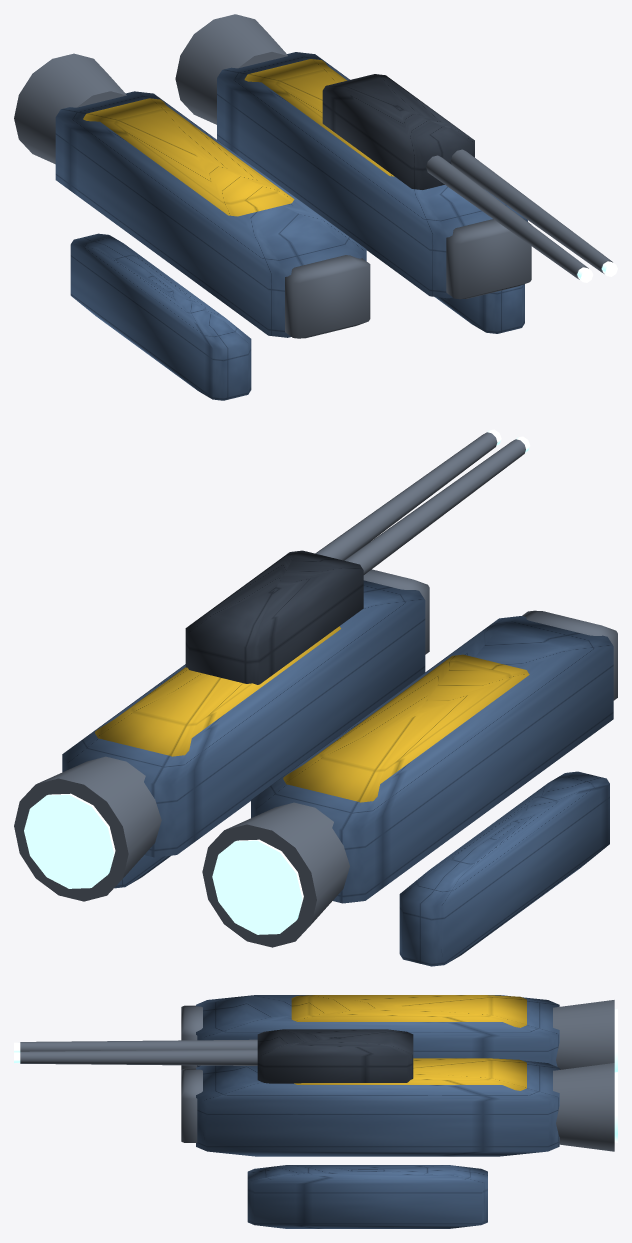
The model's file is vf1s_fast_pack.glb.
3 renders of one model, top to bottom at view 1: azimuth 30°, elevation 25°; view 2: azimuth 150°, elevation 25°; view 3: azimuth 270°, elevation 25°, orthographic. The views are drawn at different scales.
Parts seen in each view (by area): view 1: vf1s_fast_pack; view 2: vf1s_fast_pack; view 3: vf1s_fast_pack.
Boxes of the visible parts, left/top/right/bottom form: vf1s_fast_pack: left=14, top=14, right=617, bottom=400; vf1s_fast_pack: left=14, top=429, right=617, bottom=966; vf1s_fast_pack: left=14, top=995, right=617, bottom=1228.
Size of the model in its own units: 1.78 by 1.11 by 3.72.
Materials: 3 (1 with a texture image).
